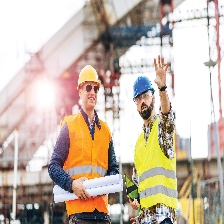helmet: (75, 64, 103, 88), (130, 75, 156, 100)
person: (49, 64, 129, 224), (126, 64, 180, 224)
vest: (59, 115, 111, 220), (128, 119, 172, 224)
